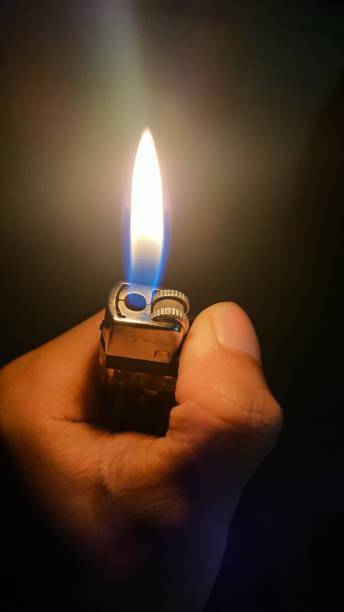Fire: (124, 129, 166, 307)
